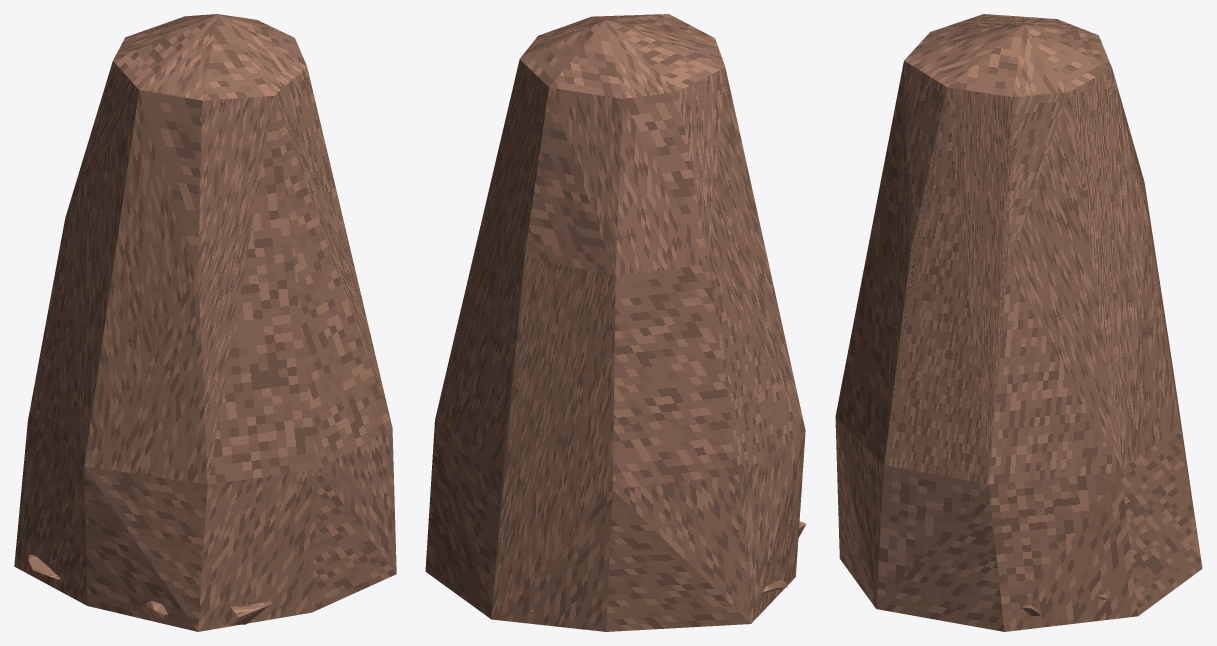
Rendered from f_clay_mound_mid.glb.
3 views of the same model, side by side, from view 1: azimuth 30°, elevation 25°; view 2: azimuth 150°, elevation 25°; view 3: azimuth 270°, elevation 25° (orthographic).
Visible parts, largest first — view 1: block_heaped-clay, block_slumped-edge; view 2: block_heaped-clay; view 3: block_heaped-clay.
Part boxes in pixels (x1,y1,x2,y2): block_heaped-clay: (14, 14, 396, 631); block_slumped-edge: (221, 602, 272, 624); block_heaped-clay: (425, 14, 805, 631); block_heaped-clay: (835, 14, 1202, 631).
Bounding box in the file's own units: 0.8626 × 1.31 × 0.818.
1 material, 1 textured.
